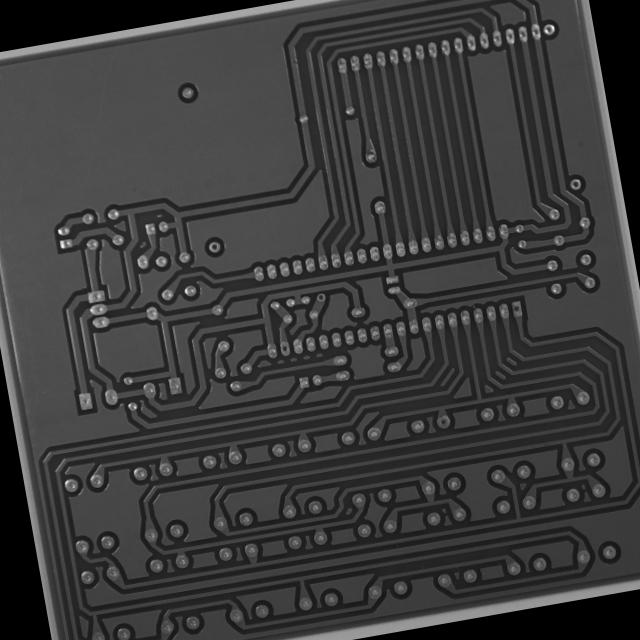missing_hole: (434, 411, 453, 432), (507, 300, 525, 318), (566, 176, 584, 193), (276, 340, 292, 356), (206, 238, 221, 254), (314, 290, 328, 304)
